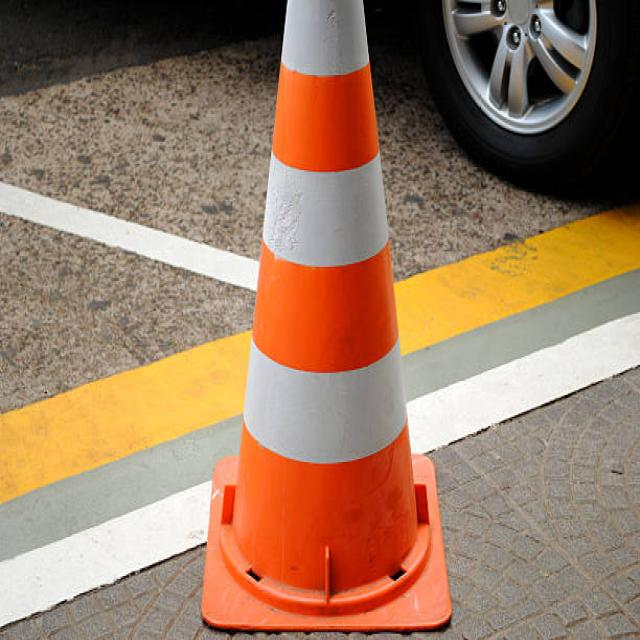Traffic Cone: (190, 1, 472, 640)
